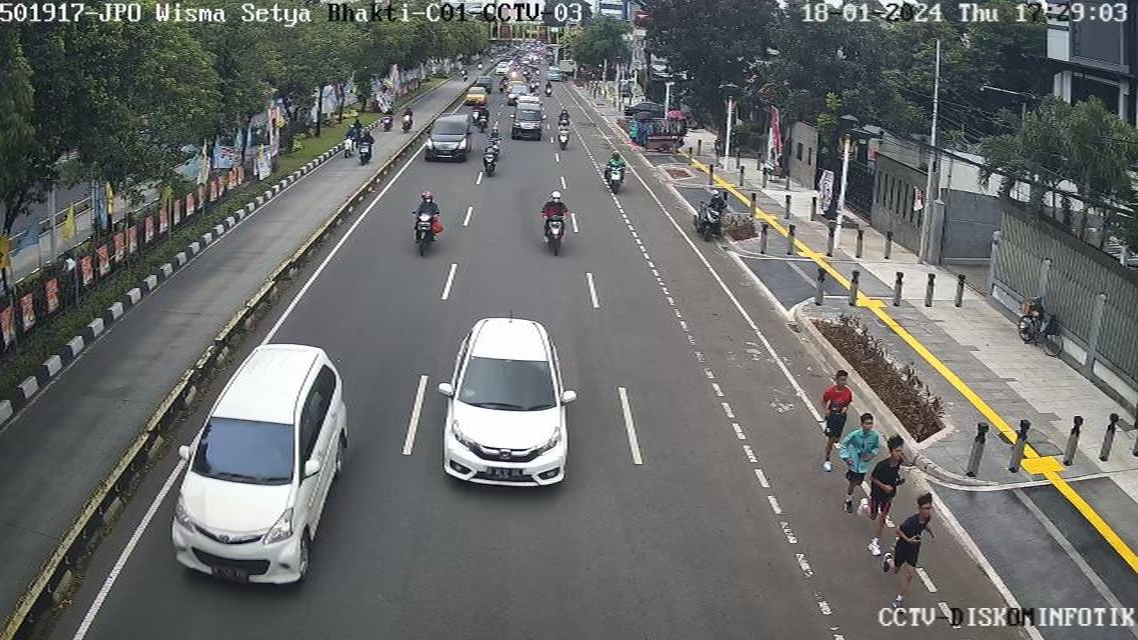Gerobak: (628, 111, 695, 161)
